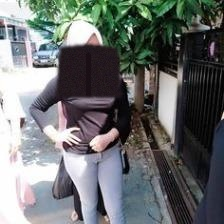Cadar_Niqab: (56, 18, 121, 97)
